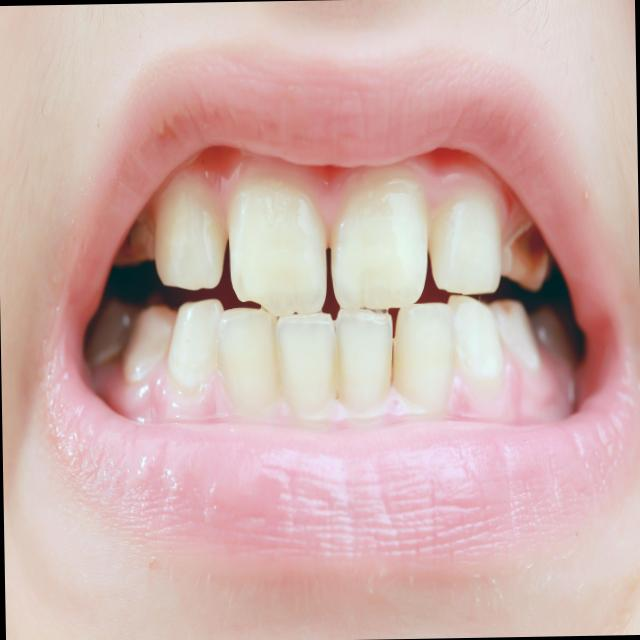Caries: (509, 223, 547, 270)
Tooth: (329, 178, 428, 310), (228, 186, 327, 317), (154, 174, 227, 291), (429, 192, 502, 296), (216, 306, 282, 411), (392, 302, 455, 409), (334, 307, 393, 412), (277, 311, 337, 414), (447, 295, 505, 393), (167, 297, 224, 389), (122, 302, 176, 384), (490, 299, 541, 368)
